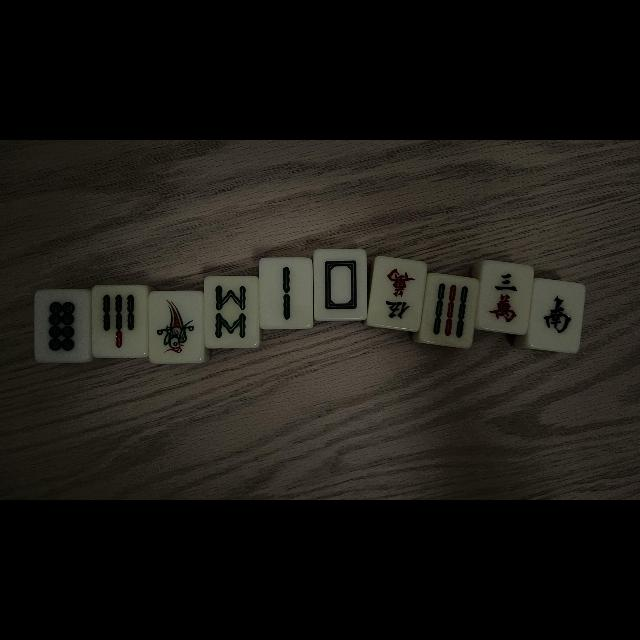b1: (151, 293, 201, 361)
b2: (262, 259, 312, 327)
b7: (94, 287, 146, 355)
b8: (206, 277, 256, 345)
b9: (426, 276, 474, 344)
c3: (482, 262, 530, 330)
c5: (371, 258, 423, 328)
d8: (36, 290, 86, 360)
dw: (315, 252, 365, 318)
ws: (530, 279, 580, 349)
